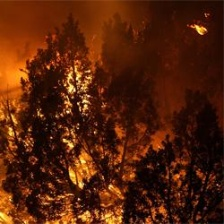fire: (65, 65, 88, 108), (67, 139, 88, 183), (48, 211, 124, 223)
